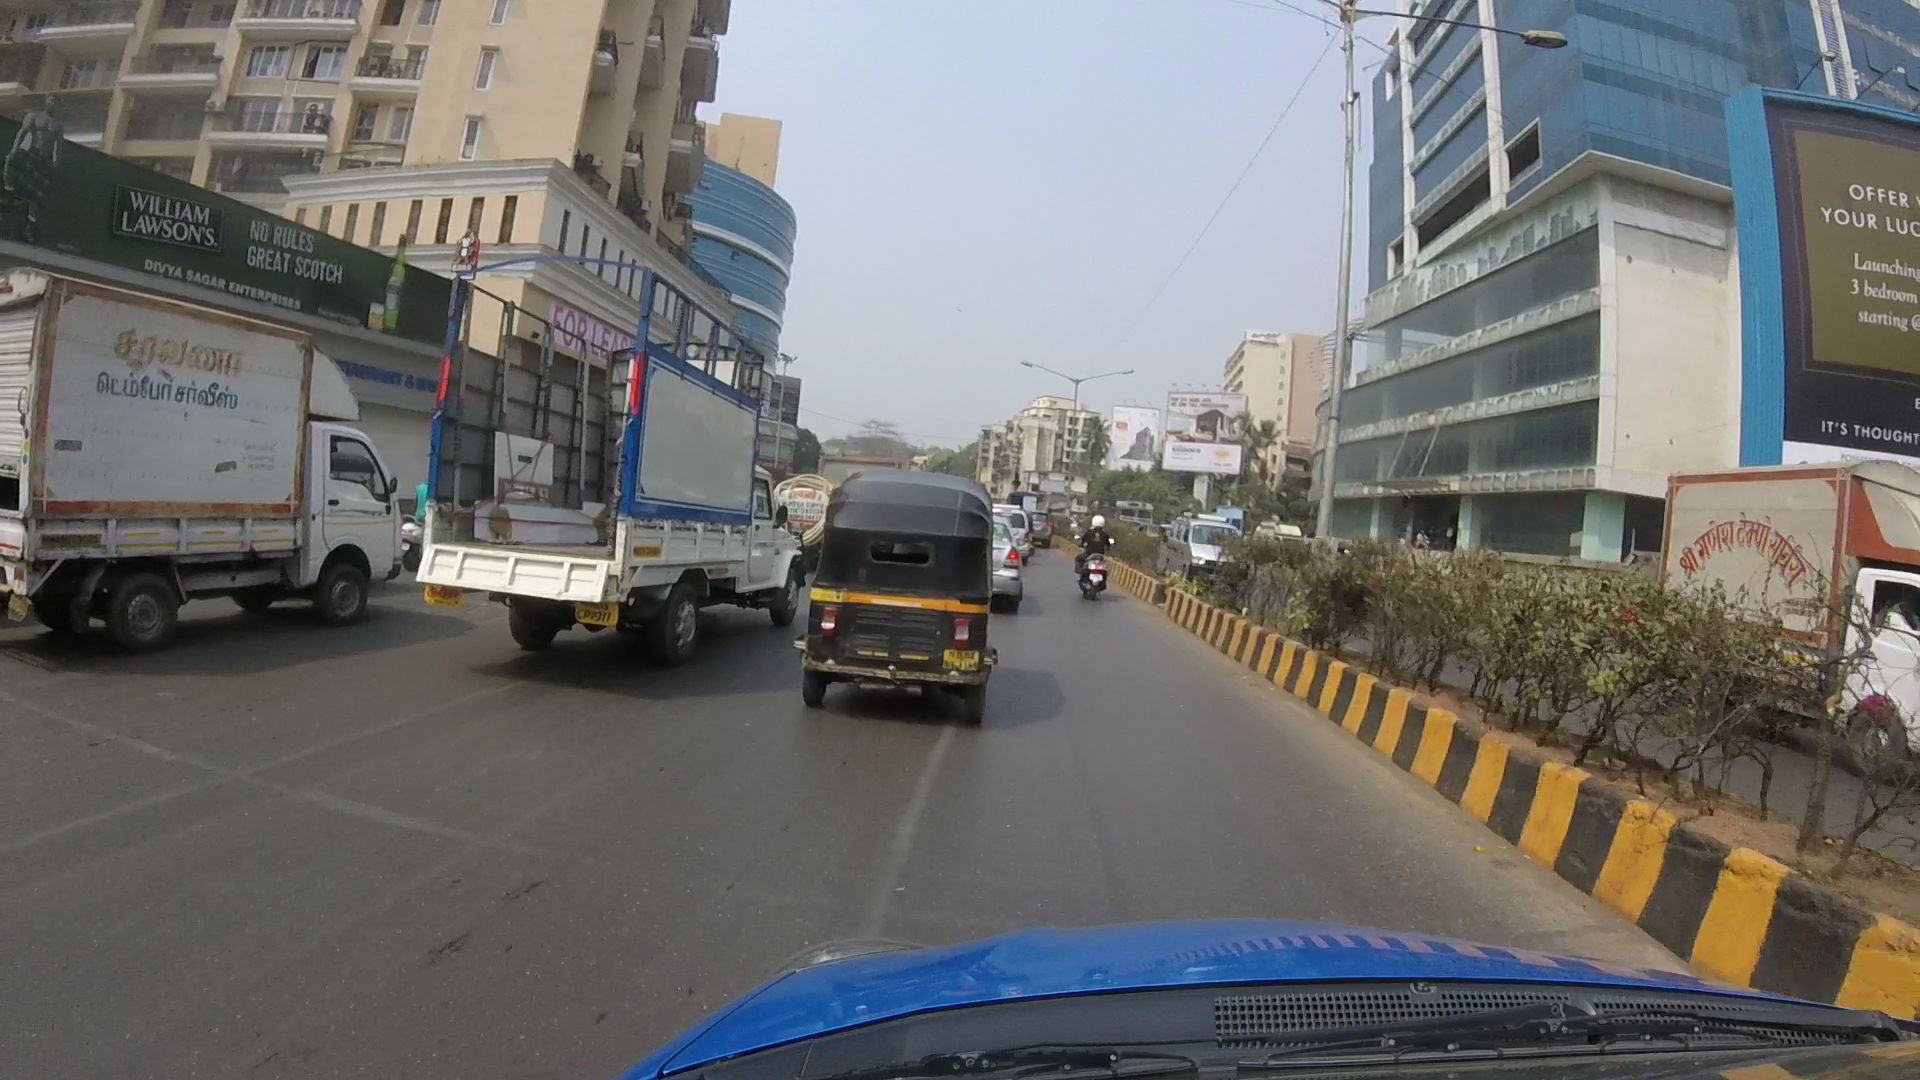bike/scooter: (1058, 495, 1130, 605)
car: (976, 509, 1033, 603)
rickshaw: (795, 460, 1011, 704)
truck: (425, 222, 807, 673), (1, 260, 411, 645), (1638, 438, 1920, 777), (771, 459, 835, 547)
